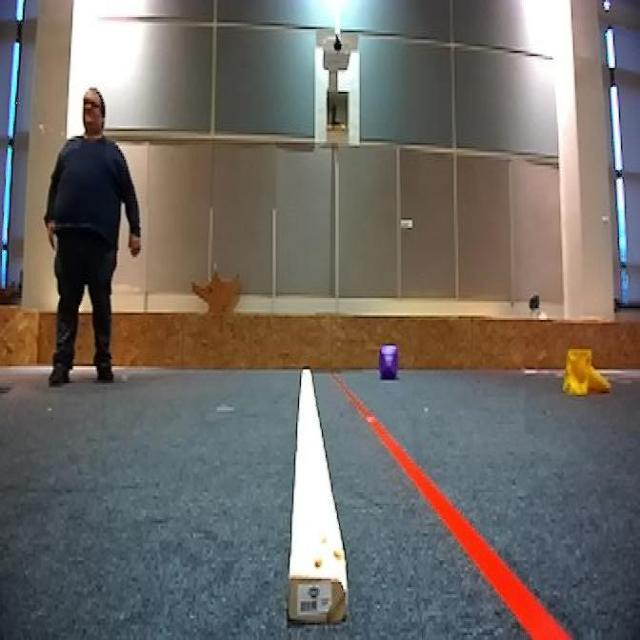frc_cone: (560, 344, 610, 398)
frc_cube: (377, 342, 401, 380)
